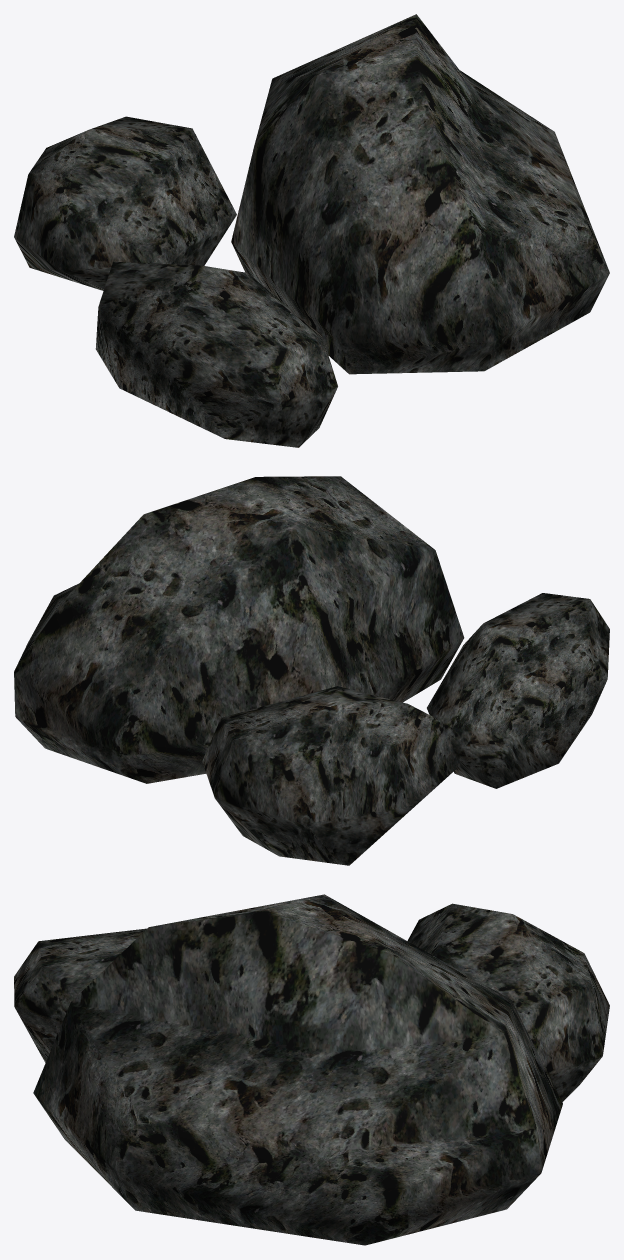
The model's file is rock_scorched_small_l1.fbx.
3 renders of one model, top to bottom at view 1: azimuth 30°, elevation 25°; view 2: azimuth 150°, elevation 25°; view 3: azimuth 270°, elevation 25°, orthographic. The views are drawn at different scales.
Visible parts, largest first — view 1: mesh_node; view 2: mesh_node; view 3: mesh_node.
Boxes of the visible parts, x1,y1,x2,y2 form: mesh_node: (14,14,609,447); mesh_node: (14,476,609,865); mesh_node: (14,894,609,1245).
Bounding box in the file's own units: 2.17 × 1.05 × 2.12.
Materials: 1 (1 with a texture image).
